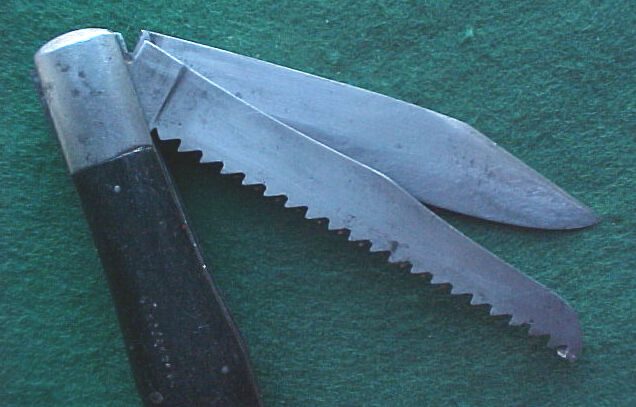knief: (35, 19, 600, 380)
